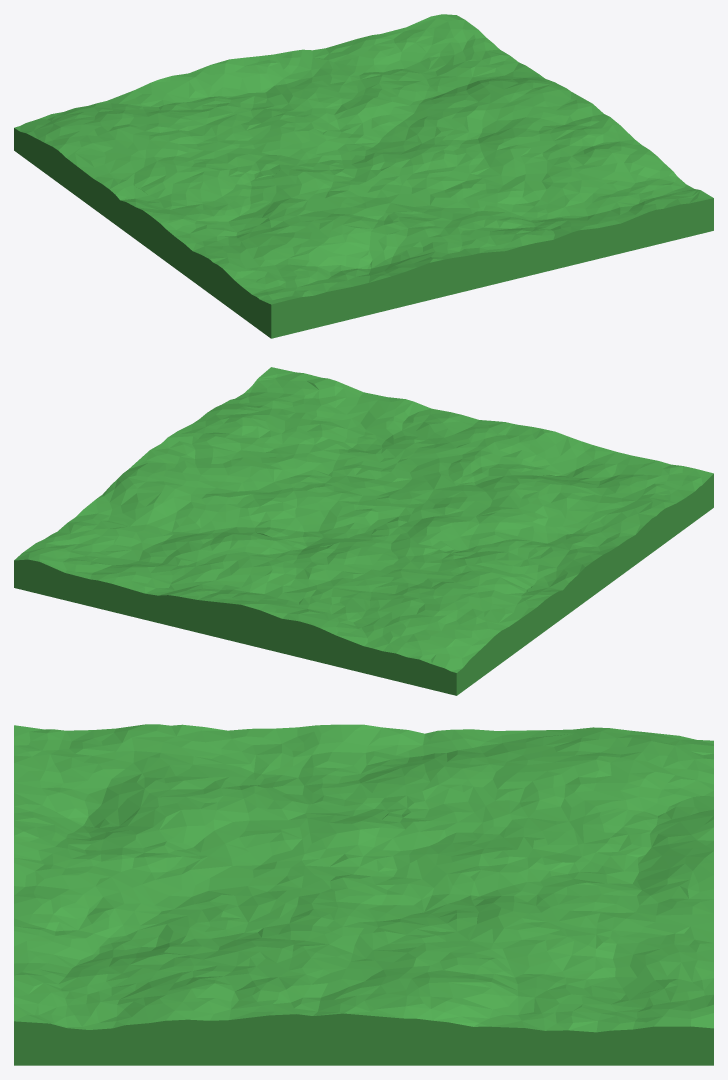
File: Ground_flat.gltf
3 views of the same model, one above another, from view 1: azimuth 30°, elevation 25°; view 2: azimuth 150°, elevation 25°; view 3: azimuth 270°, elevation 25° (orthographic). The views are drawn at different scales.
Visible parts, largest first — view 1: Ground_flat; view 2: Ground_flat; view 3: Ground_flat.
Part boxes in pixels (box(x1,y1,x2,y2)): Ground_flat: box(14, 14, 713, 338); Ground_flat: box(14, 367, 713, 695); Ground_flat: box(14, 724, 713, 1065).
Bounding box in the file's own units: 146 × 12.24 × 147.
